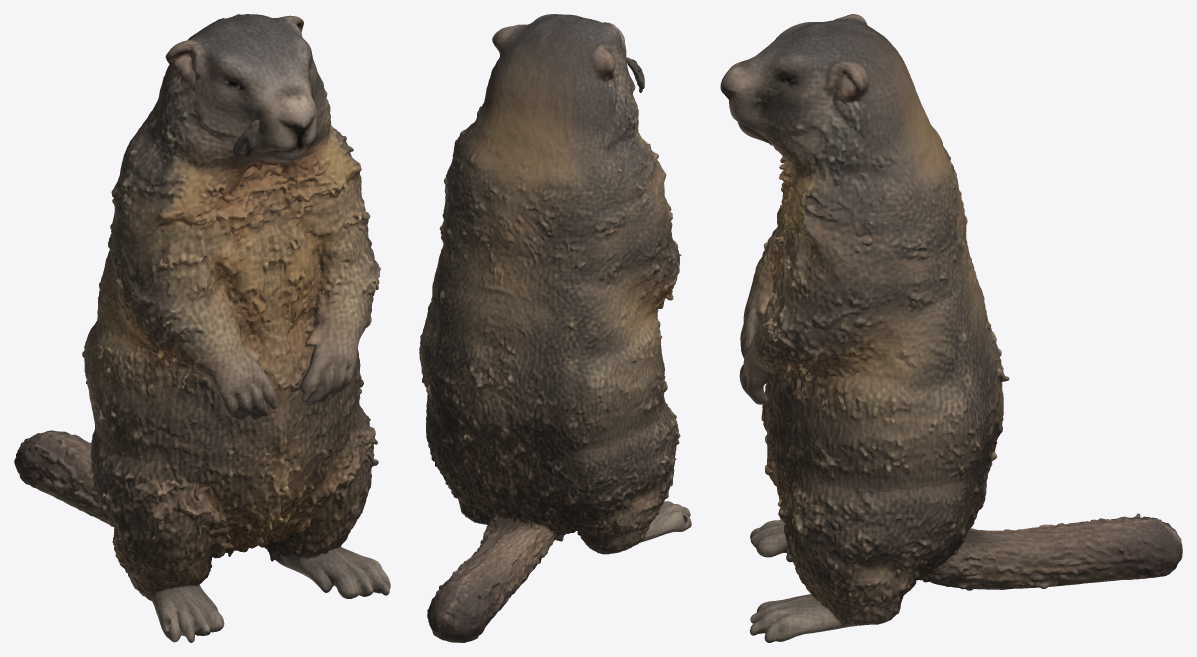
File: task-4902688.glb
3 views of the same model, side by side, from view 1: azimuth 30°, elevation 25°; view 2: azimuth 150°, elevation 25°; view 3: azimuth 270°, elevation 25° (orthographic). The views are drawn at different scales.
Visible parts, largest first — view 1: world; view 2: world; view 3: world.
Boxes of the visible parts, <box> form: world: <box>14,14,390,642</box>; world: <box>419,14,691,642</box>; world: <box>720,14,1182,642</box>.
Size of the model in its own units: 0.2861 by 0.6 by 0.4467.
1 material, 1 textured.
